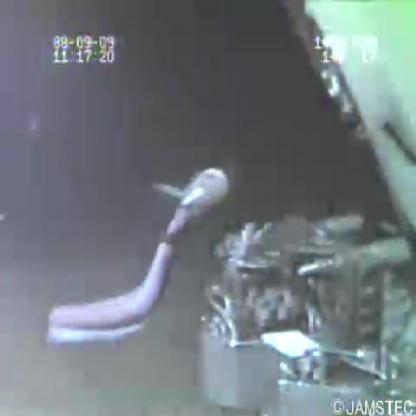Bio: (41, 162, 235, 350)
Rov: (195, 210, 414, 416)
